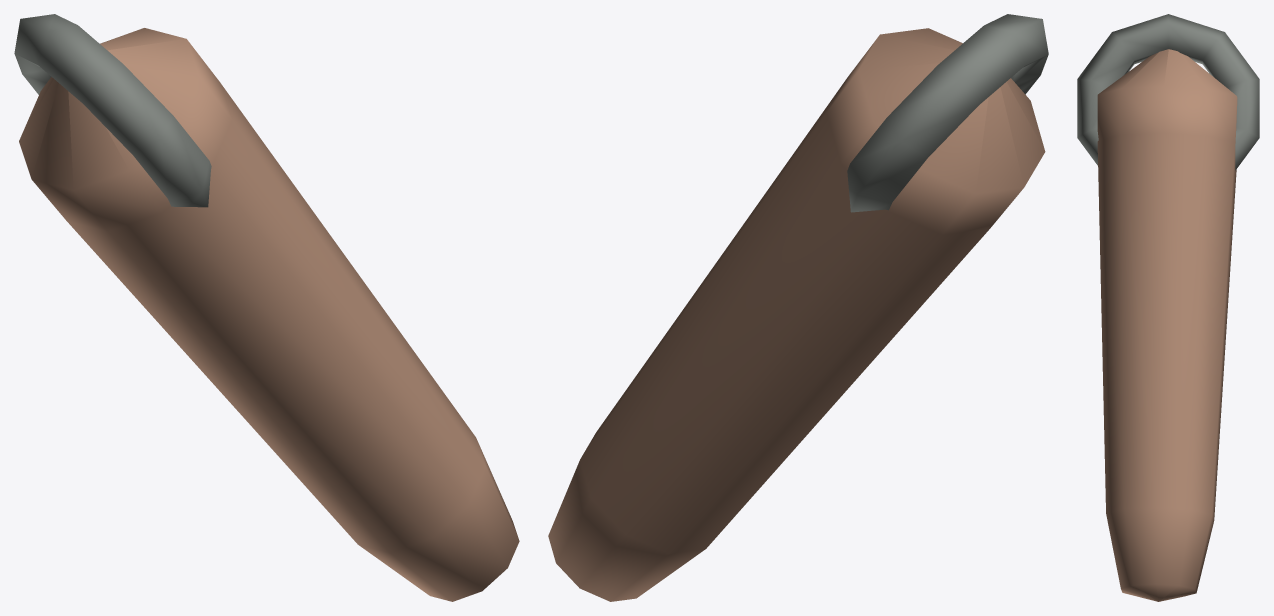
Rendered from forearm_L.obj.
3 renders of one model, left to right at view 1: azimuth 30°, elevation 25°; view 2: azimuth 150°, elevation 25°; view 3: azimuth 270°, elevation 25°, orthographic. The views are drawn at different scales.
Parts seen in each view (by area): view 1: forearm_L; view 2: forearm_L; view 3: forearm_L.
Part boxes in pixels (x1,y1,x2,y2): forearm_L: (14,14,519,601); forearm_L: (548,14,1048,601); forearm_L: (1077,14,1259,601).
Size of the model in its own units: 0.2203 by 0.2927 by 0.1064.
